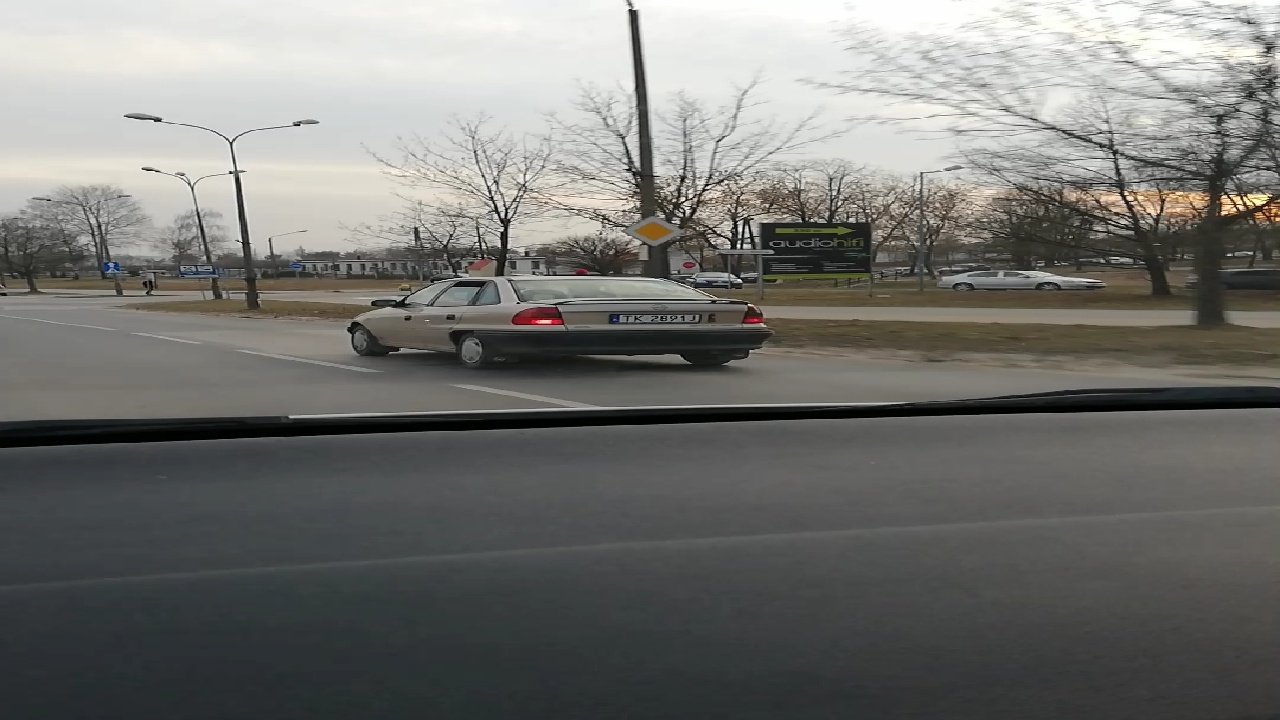D1: (624, 214, 688, 254)
